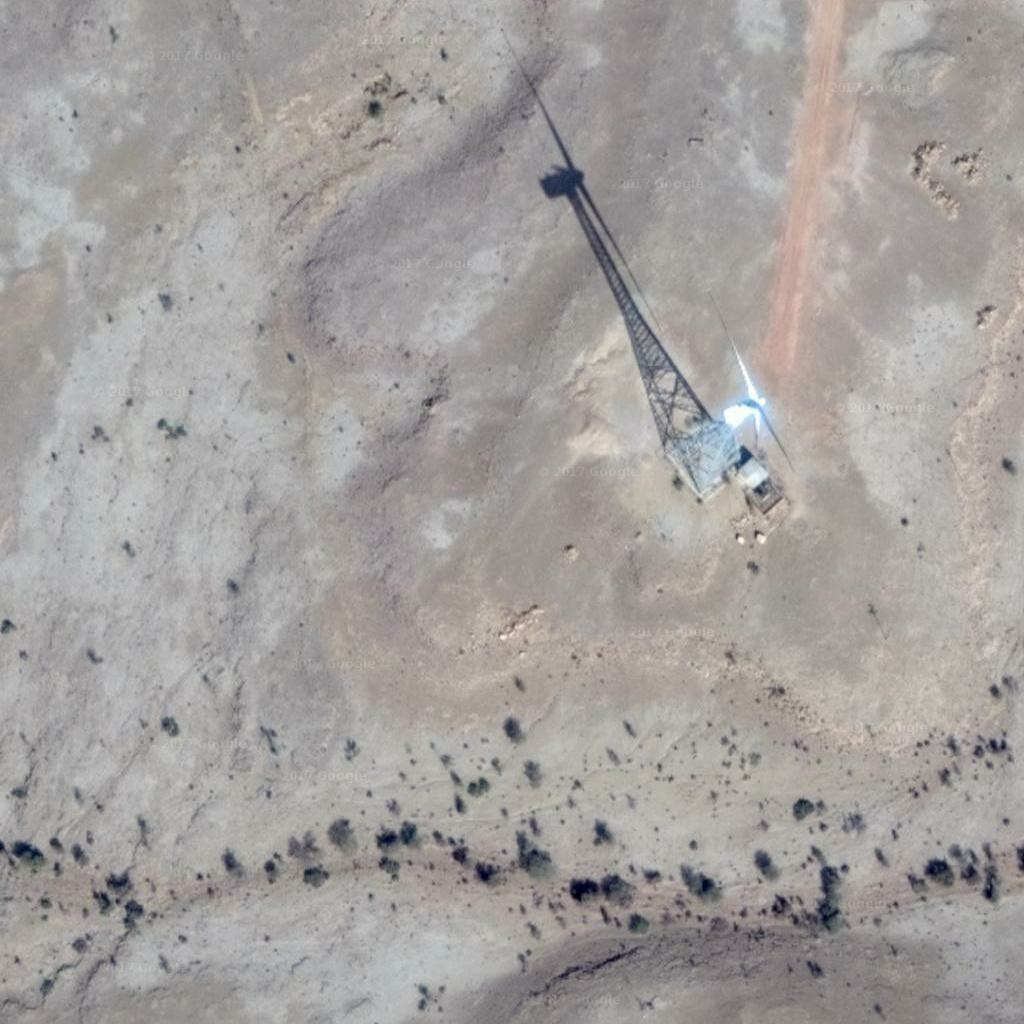Windmill: (496, 37, 734, 471)
